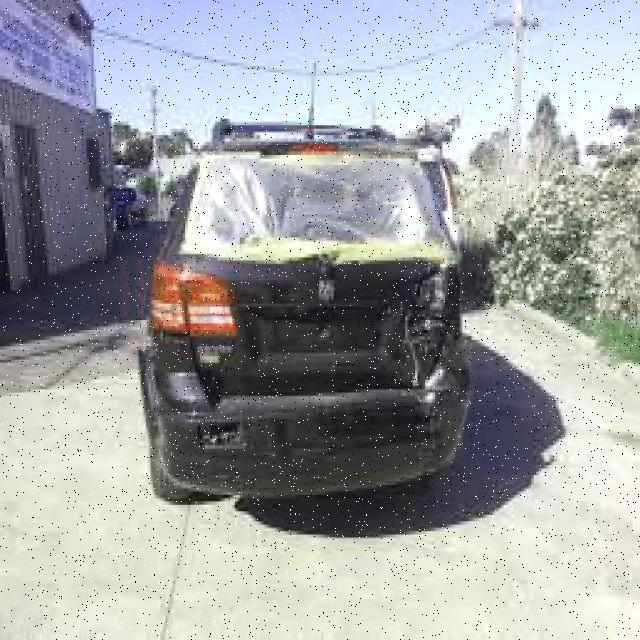car damage: (181, 159, 474, 452)
